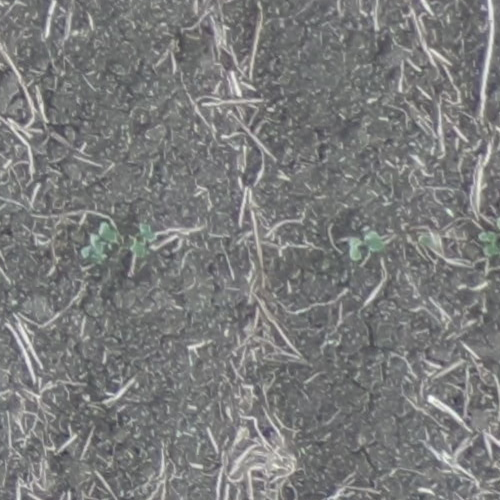isolated: (80, 222, 119, 266), (347, 230, 384, 261), (129, 223, 157, 260), (479, 216, 499, 264)
